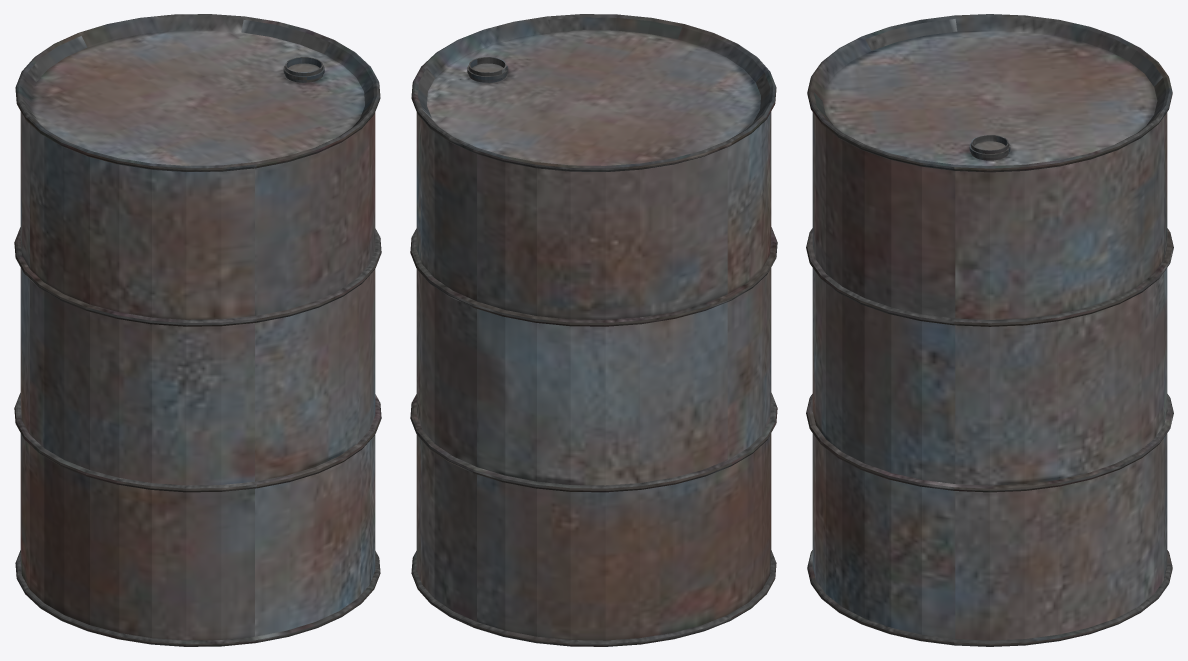
The model's file is barrel.glb.
3 renders of one model, left to right at view 1: azimuth 30°, elevation 25°; view 2: azimuth 150°, elevation 25°; view 3: azimuth 270°, elevation 25°, orthographic.
Parts seen in each view (by area): view 1: Cylinder; view 2: Cylinder; view 3: Cylinder.
Boxes of the visible parts, x1=… form: Cylinder: x1=14, y1=14, x2=381, y2=646; Cylinder: x1=410, y1=14, x2=777, y2=646; Cylinder: x1=806, y1=14, x2=1173, y2=646.
Bounding box in the file's own units: 2.07 × 2.99 × 2.07.
Materials: 1 (1 with a texture image).
